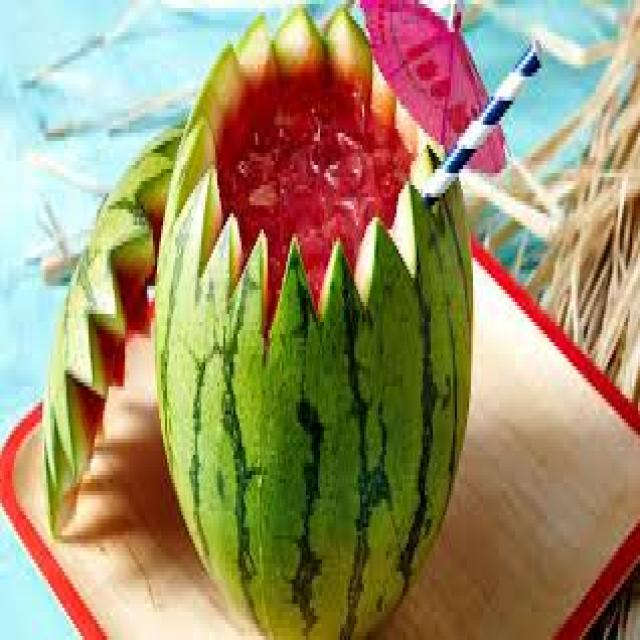watermelon: (151, 0, 475, 636)
